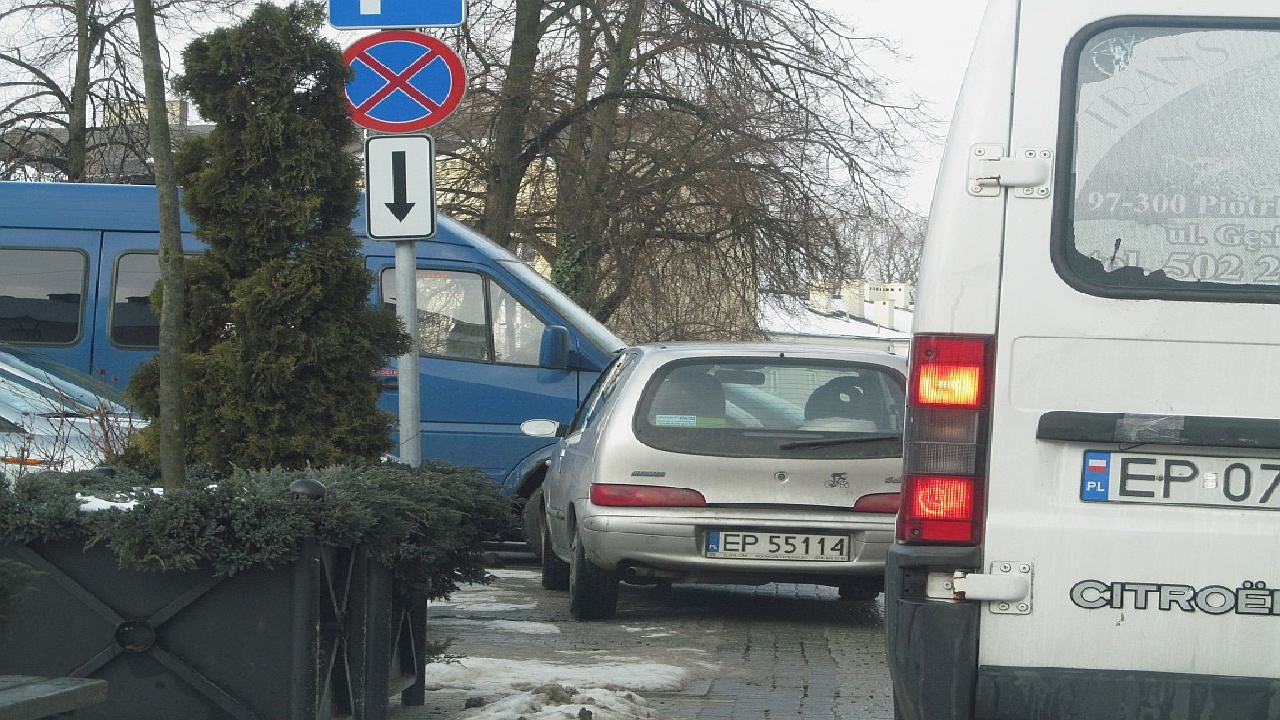B36: (333, 30, 466, 132)
